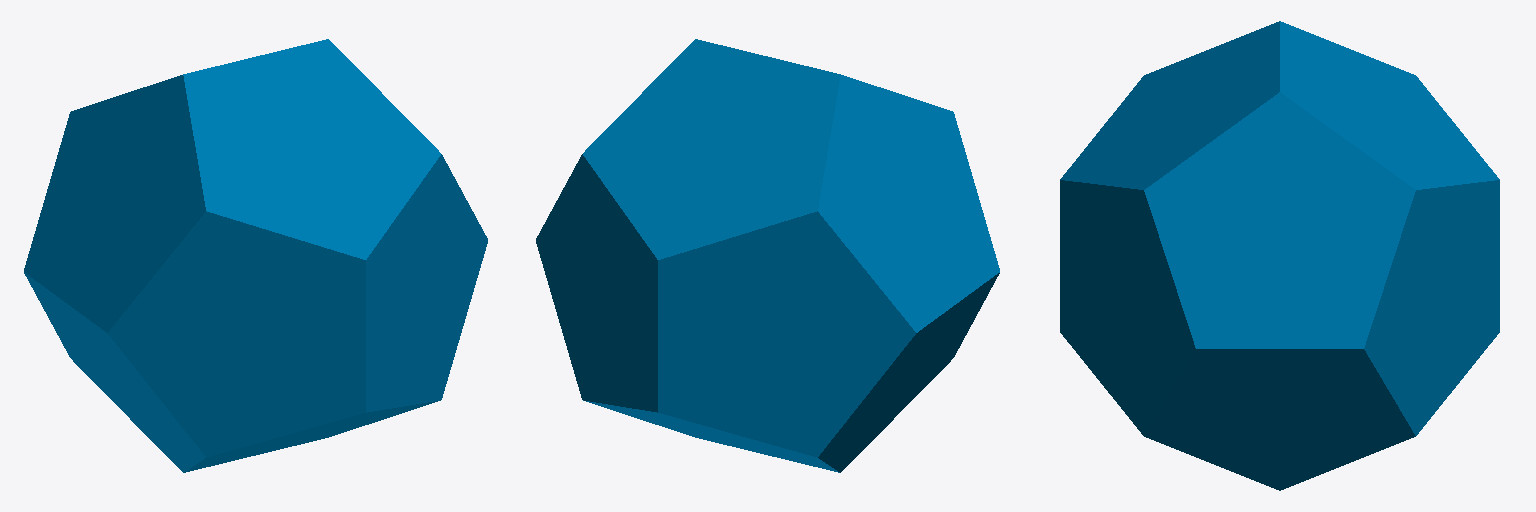
Rendered from dodekahedron.obj.
3 views of the same model, side by side, from view 1: azimuth 30°, elevation 25°; view 2: azimuth 150°, elevation 25°; view 3: azimuth 270°, elevation 25° (orthographic).
Parts seen in each view (by area): view 1: dodekahedron; view 2: dodekahedron; view 3: dodekahedron.
Part boxes in pixels (x1,y1,x2,y2): dodekahedron: (24,39,487,472); dodekahedron: (536,39,999,472); dodekahedron: (1060,21,1499,490).
Size of the model in its own units: 0.9896 by 0.9896 by 0.9896.